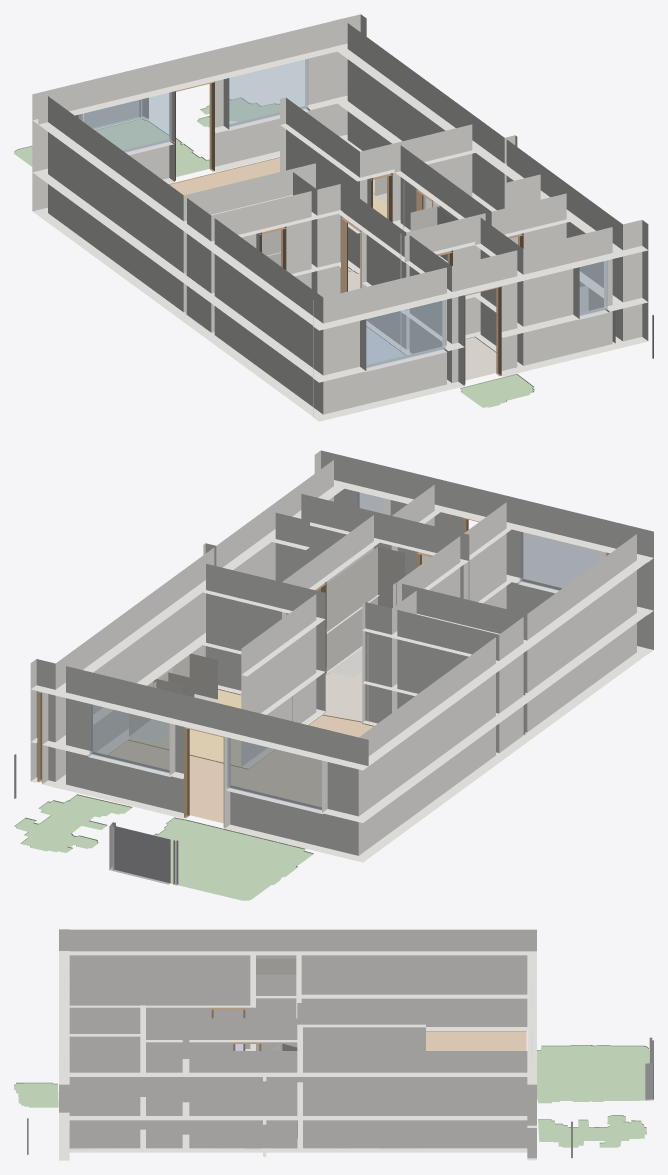
3 views of the same model, one above another, from view 1: azimuth 30°, elevation 25°; view 2: azimuth 150°, elevation 25°; view 3: azimuth 270°, elevation 25° (orthographic). The views are drawn at different scales.
Visible parts, largest first — view 1: walls, window_0, window_4, window_3, floor_8_Outdoor, floor_0_Living_Room, floor_10_Outdoor, window_5, railings, floor_6_Entry, floor_9_Outdoor, floor_5_Bed_Room (+6 smaller); view 2: walls, floor_8_Outdoor, floor_0_Living_Room, furniture_2_closet, window_3, window_4, floor_9_Outdoor, railings, window_0, floor_1_Kitchen, floor_2_Entry, furniture_5_appliance (+2 smaller); view 3: walls, floor_8_Outdoor, floor_9_Outdoor, floor_0_Living_Room, floor_10_Outdoor, furniture_0_closet, railings.
Boxes of the visible parts, left/top/right/bottom form: walls: left=32, top=14, right=648, bottom=421; window_0: left=365, top=300, right=445, bottom=368; window_4: left=226, top=59, right=308, bottom=126; window_3: left=78, top=92, right=172, bottom=152; floor_8_Outdoor: left=14, top=118, right=209, bottom=176; floor_0_Living_Room: left=169, top=157, right=374, bottom=271; floor_10_Outdoor: left=460, top=374, right=534, bottom=407; window_5: left=579, top=257, right=607, bottom=316; railings: left=79, top=98, right=653, bottom=358; floor_6_Entry: left=465, top=336, right=496, bottom=380; floor_9_Outdoor: left=197, top=97, right=279, bottom=127; floor_5_Bed_Room: left=366, top=326, right=405, bottom=364; walls: left=30, top=450, right=653, bottom=862; floor_8_Outdoor: left=154, top=817, right=313, bottom=900; floor_0_Living_Room: left=108, top=714, right=373, bottom=823; furniture_2_closet: left=327, top=546, right=404, bottom=677; window_3: left=227, top=737, right=324, bottom=810; window_4: left=89, top=704, right=170, bottom=772; floor_9_Outdoor: left=14, top=794, right=132, bottom=852; railings: left=14, top=754, right=178, bottom=885; window_0: left=519, top=531, right=603, bottom=590; floor_1_Kitchen: left=129, top=689, right=241, bottom=766; floor_2_Entry: left=322, top=672, right=362, bottom=721; furniture_5_appliance: left=172, top=653, right=217, bottom=702; walls: left=59, top=929, right=536, bottom=1160; floor_8_Outdoor: left=537, top=1045, right=649, bottom=1103; floor_9_Outdoor: left=538, top=1115, right=646, bottom=1147; floor_0_Living_Room: left=426, top=1031, right=526, bottom=1050; floor_10_Outdoor: left=14, top=1082, right=58, bottom=1107; furniture_0_closet: left=256, top=958, right=296, bottom=974; railings: left=27, top=1037, right=653, bottom=1158.
Size of the model in its own units: 7.95 by 2.72 by 16.08.
